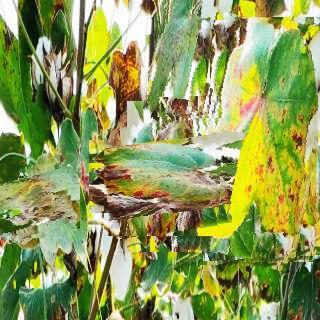blight: (182, 17, 320, 266), (104, 117, 223, 236), (148, 0, 211, 118), (0, 164, 74, 241)
